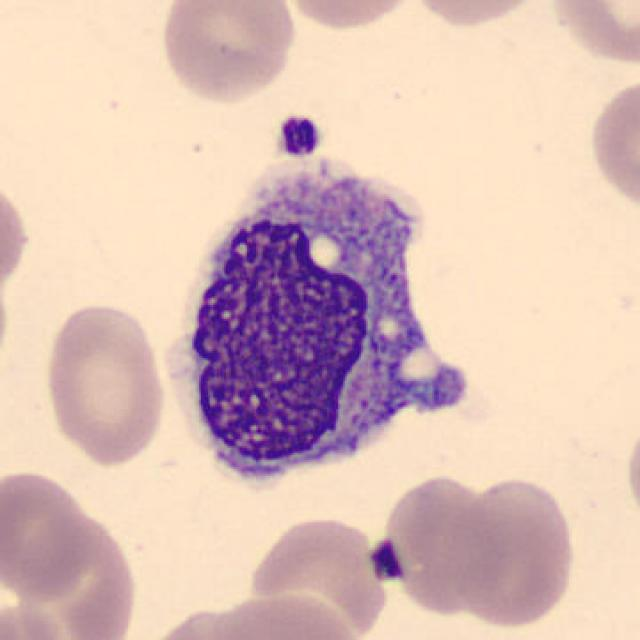Monocyte: (155, 147, 492, 498)
Platelets: (274, 113, 324, 159), (365, 534, 407, 584)
RBC: (39, 298, 169, 469), (368, 469, 514, 617), (448, 473, 581, 631), (245, 512, 395, 638), (4, 506, 140, 640), (154, 0, 298, 106), (0, 465, 98, 603), (201, 587, 364, 640), (585, 70, 640, 218), (544, 0, 640, 69), (136, 604, 284, 640), (279, 0, 421, 33), (0, 173, 34, 303), (407, 0, 551, 30), (0, 590, 74, 640), (622, 407, 640, 536)
